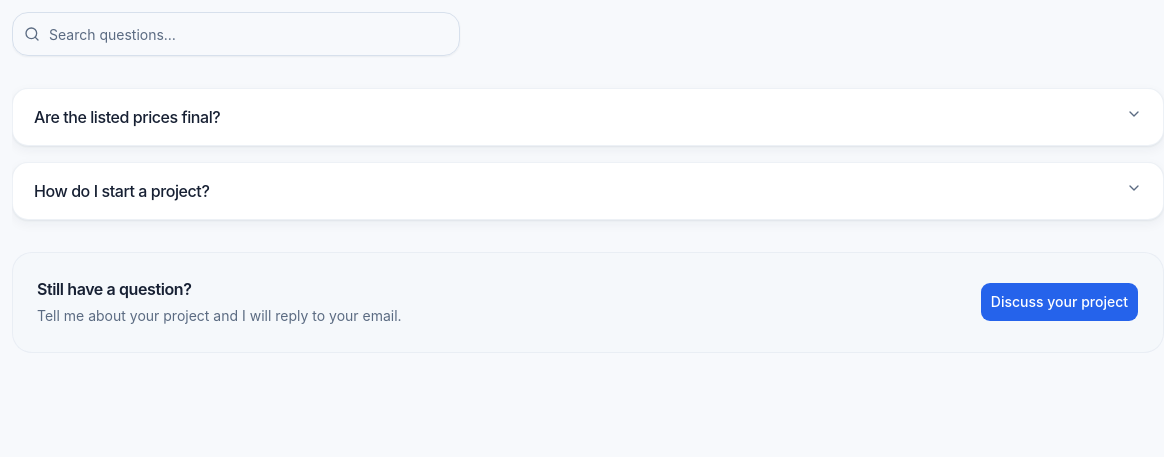
Test: FaqAccordion › shows an empty state when nothing matches
The image size is (1164, 457).
Type "zzzz" into the search field. click: (236, 34)
box: [12,12,460,56]
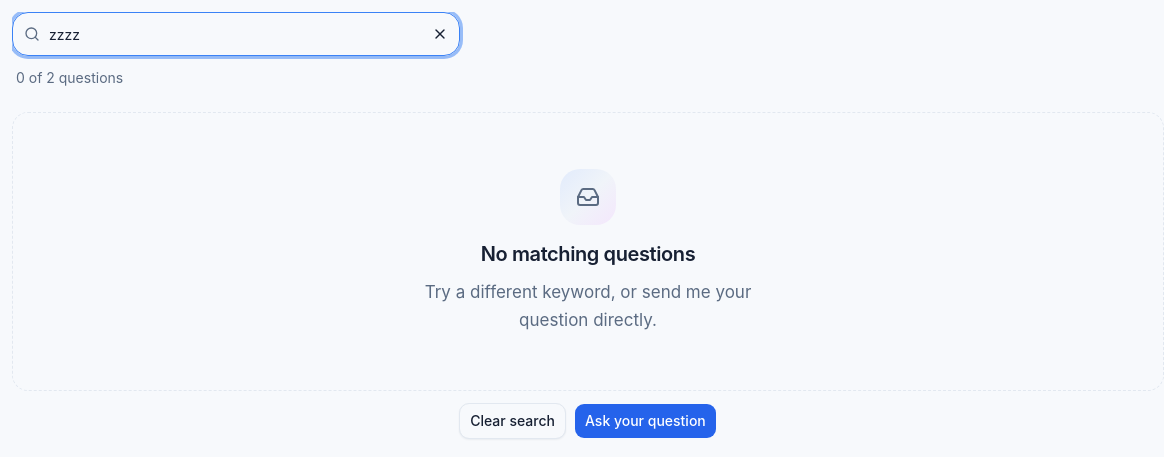
Now the heading "No matching questions" is shown, box [481,241,695,267]
